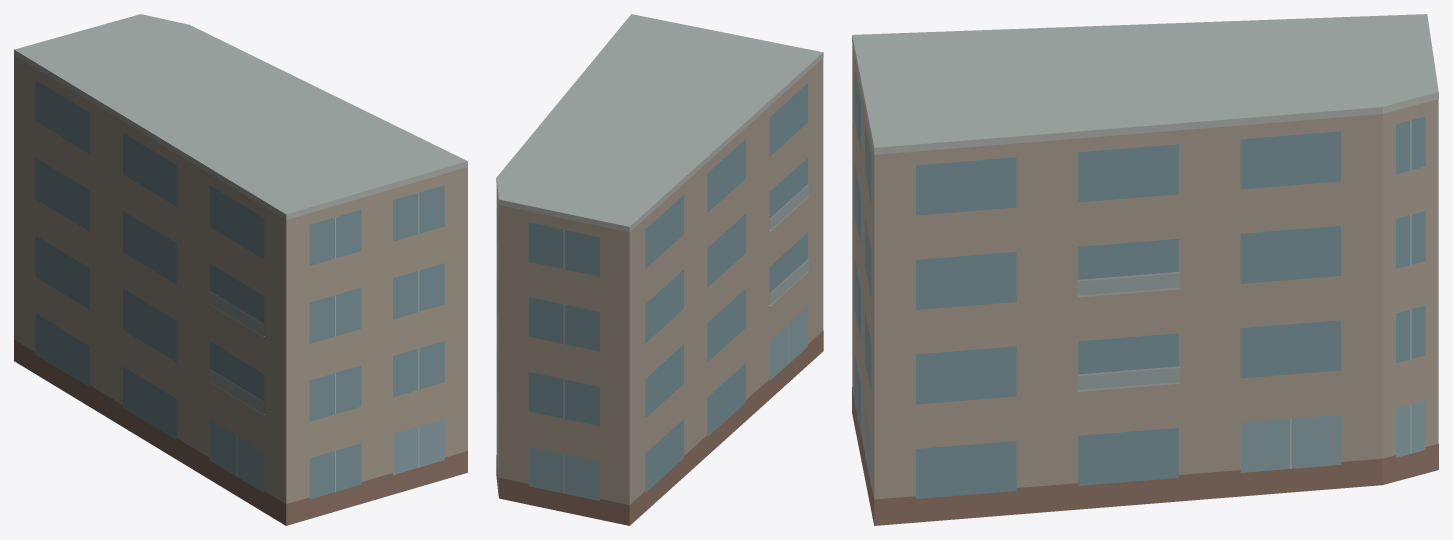
Rendered from survey-upis-32748166.glb.
3 views of the same model, side by side, from view 1: azimuth 30°, elevation 25°; view 2: azimuth 150°, elevation 25°; view 3: azimuth 270°, elevation 25° (orthographic). The views are drawn at different scales.
Parts seen in each view (by area): view 1: survey-upis-32748166.tmp; view 2: survey-upis-32748166.tmp; view 3: survey-upis-32748166.tmp.
Boxes of the visible parts, x1=… form: survey-upis-32748166.tmp: x1=14, y1=14, x2=467, y2=525; survey-upis-32748166.tmp: x1=496, y1=14, x2=823, y2=525; survey-upis-32748166.tmp: x1=852, y1=14, x2=1438, y2=525.
Bounding box in the file's own units: 10.03 × 13.2 × 18.58.
